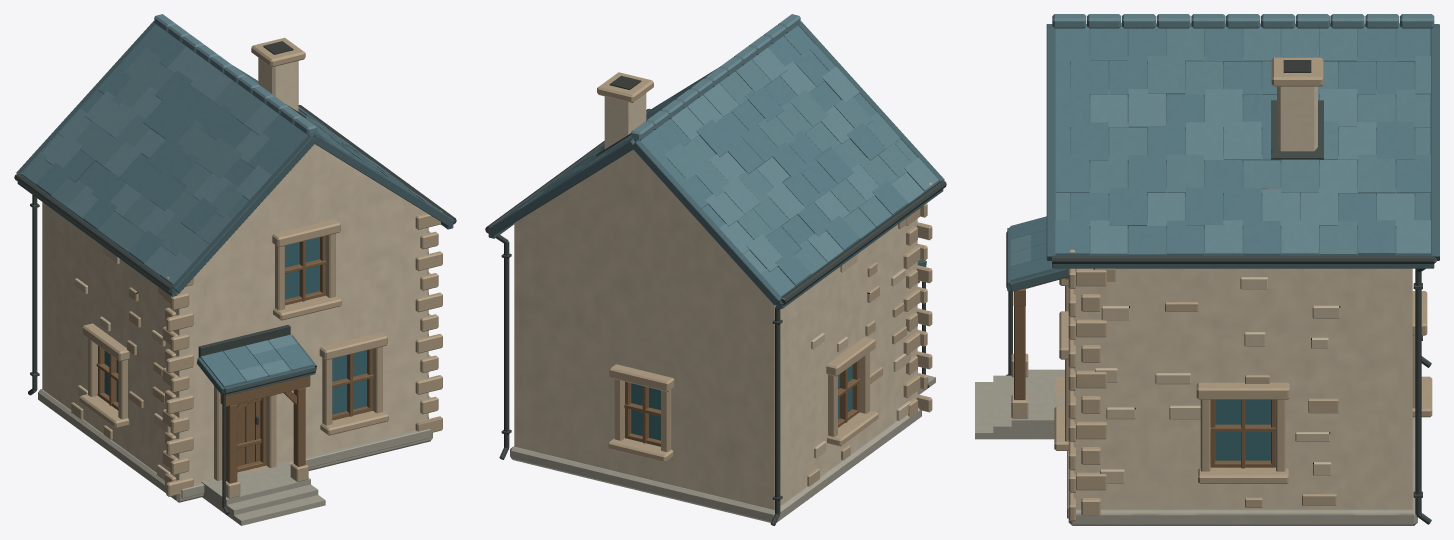
File: cottage-hero.glb
3 renders of one model, left to right at view 1: azimuth 30°, elevation 25°; view 2: azimuth 150°, elevation 25°; view 3: azimuth 270°, elevation 25°, orthographic. The views are drawn at different scales.
Visible parts, largest first — view 1: cottage-hero; view 2: cottage-hero; view 3: cottage-hero.
Boxes of the visible parts, x1,y1,x2,y2 form: cottage-hero: (14, 14, 456, 525); cottage-hero: (485, 14, 946, 525); cottage-hero: (975, 14, 1439, 525).
Size of the model in its own units: 7.16 by 8.34 by 8.1.
1 material, 1 textured.
